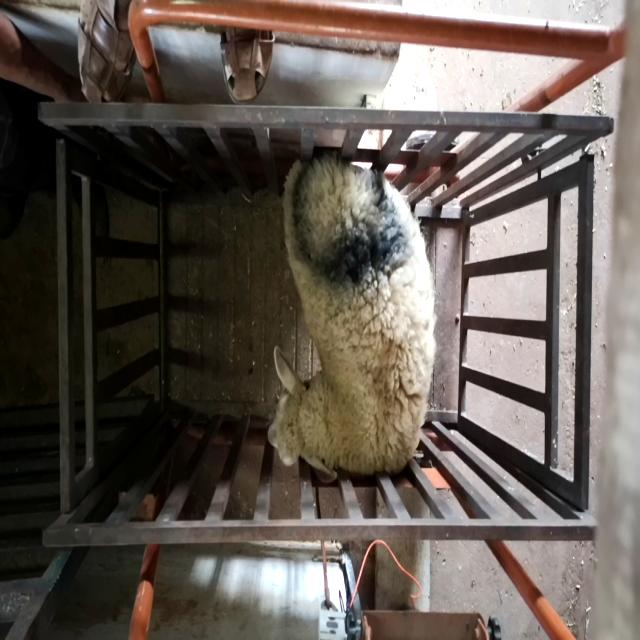sheep: (268, 154, 437, 485)
